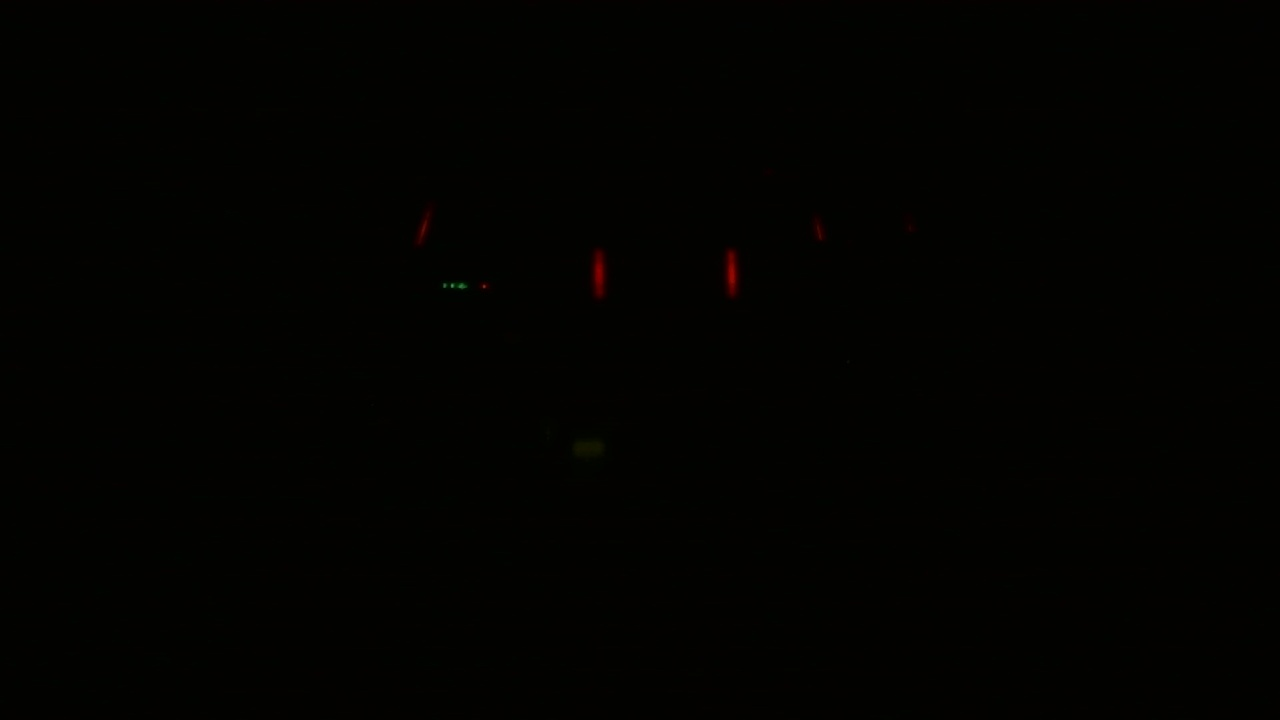pair1: (588, 233, 740, 302)
